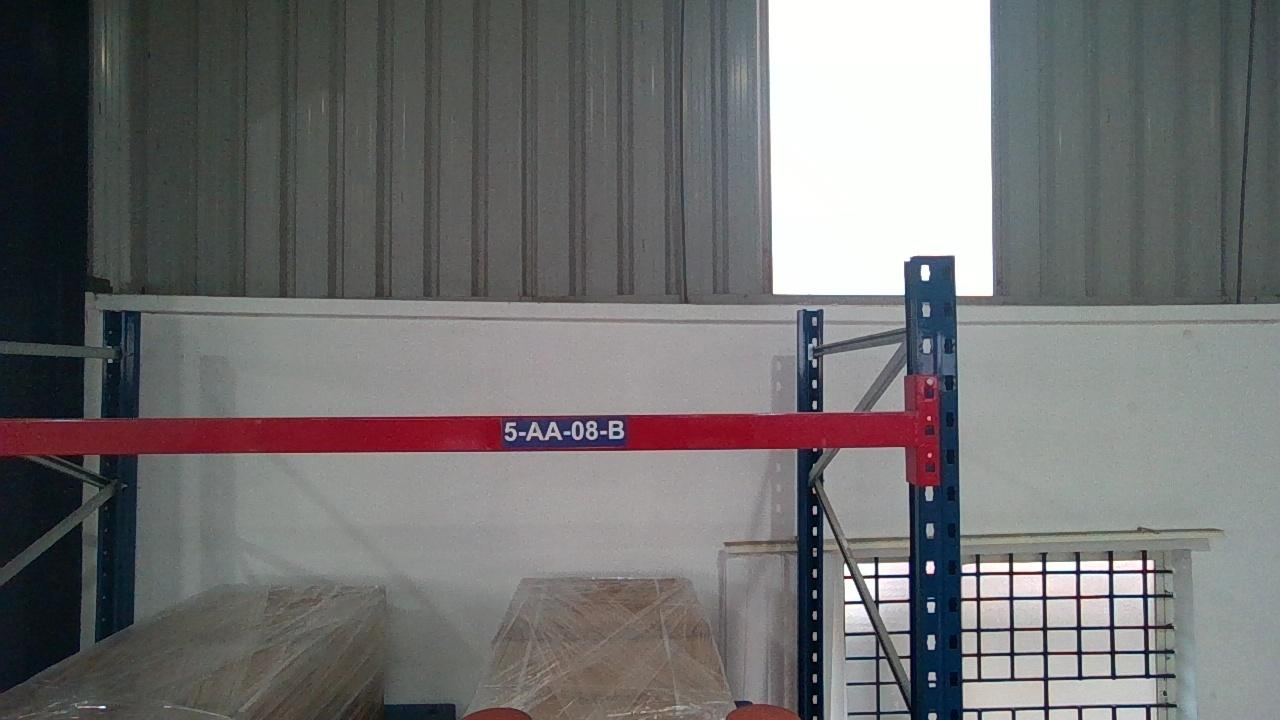h_rack: (0, 413, 915, 454)
